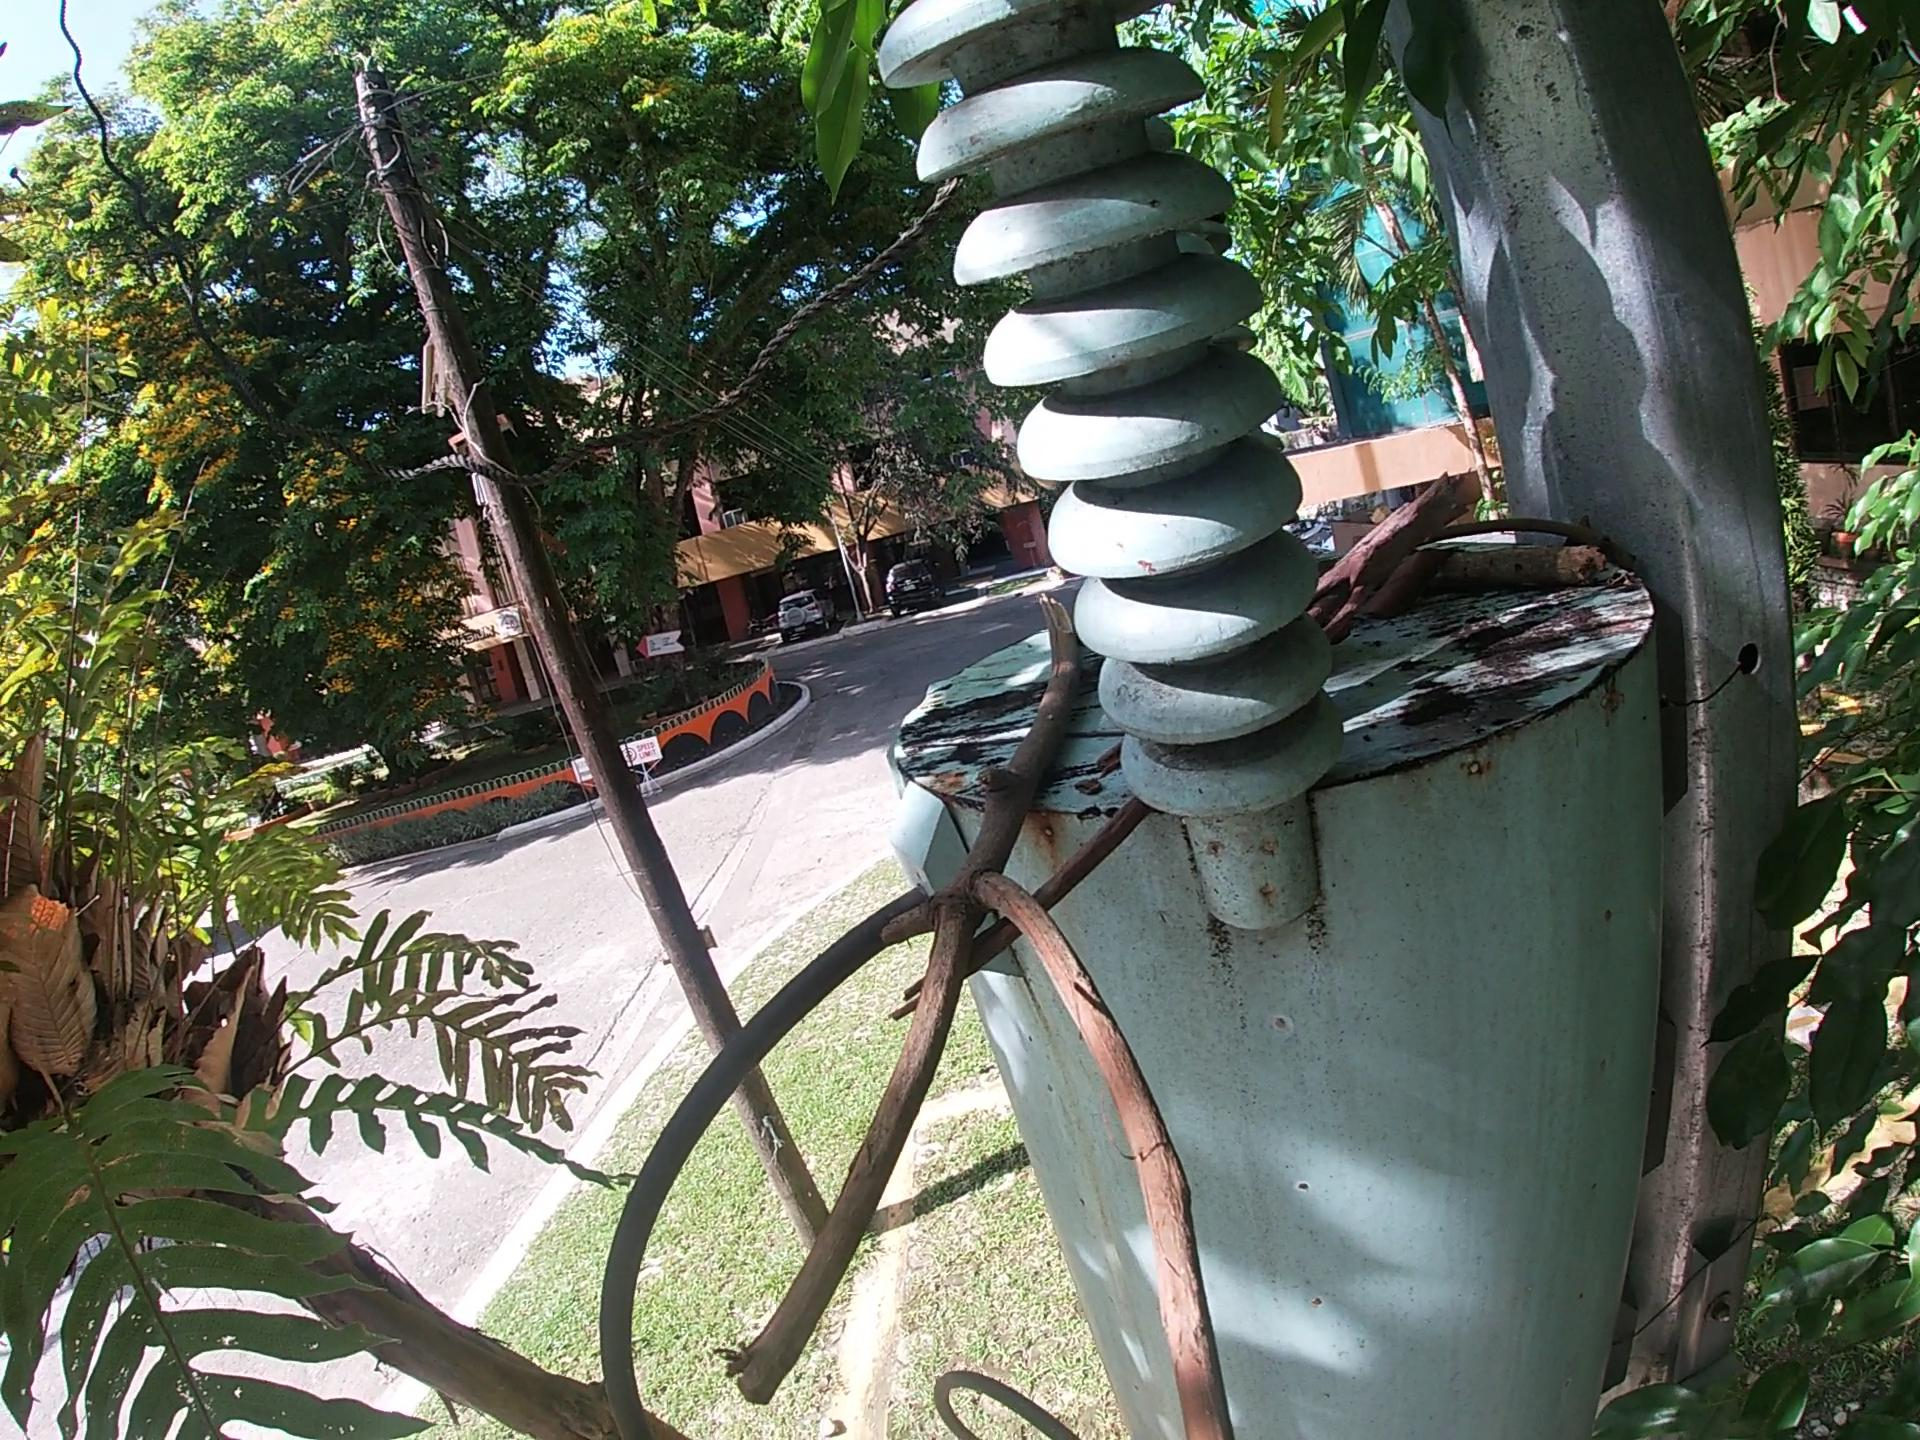leaf: (1355, 538, 1468, 629)
tree branch: (705, 584, 1243, 1438), (889, 790, 1157, 1023), (1300, 464, 1488, 647), (1415, 548, 1612, 599), (1435, 513, 1633, 551)
